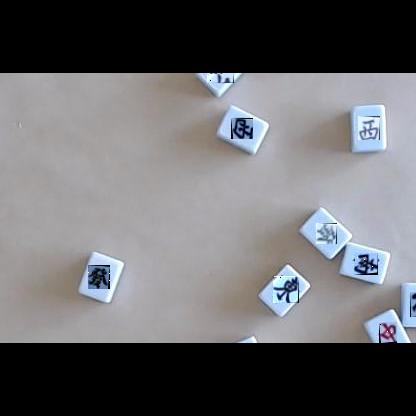1z: (273, 276, 299, 303), (207, 73, 234, 83)
2z: (354, 253, 378, 275)
3z: (358, 116, 380, 140), (231, 118, 253, 139)
4z: (410, 292, 416, 317)
6z: (88, 265, 110, 289), (316, 223, 337, 244)
7z: (379, 322, 397, 343)
